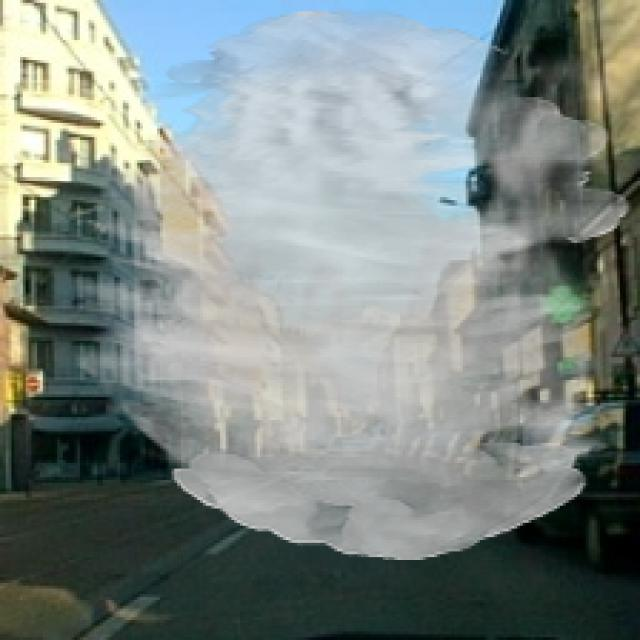smoke: (69, 9, 632, 560)
